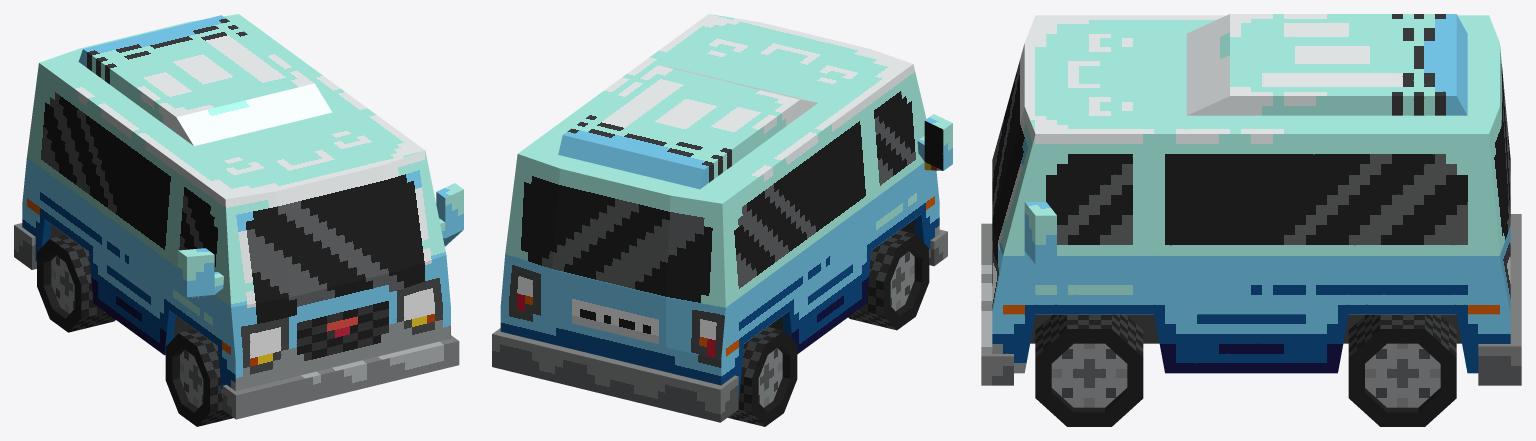
Rendered from bus.glb.
3 views of the same model, side by side, from view 1: azimuth 30°, elevation 25°; view 2: azimuth 150°, elevation 25°; view 3: azimuth 270°, elevation 25° (orthographic). The views are drawn at different scales.
Visible parts, largest first — view 1: cube_0, cube_1, cube_2, cylinder_9, cylinder_11, cube_6, cube_5, cube_3; view 2: cube_0, cube_1, cube_3, cylinder_11, cylinder_9, cube_6, cube_2; view 3: cube_0, cube_1, cylinder_13, cylinder_15, cube_3, cube_2, cube_5.
Boxes of the visible parts, <box> form: cube_0: <box>22,14,450,397</box>; cube_1: <box>78,15,332,146</box>; cube_2: <box>222,335,459,419</box>; cylinder_9: <box>37,235,115,332</box>; cylinder_11: <box>165,329,233,426</box>; cube_6: <box>178,248,223,302</box>; cube_5: <box>436,183,463,246</box>; cube_3: <box>14,223,36,269</box>; cube_0: <box>500,14,939,396</box>; cube_1: <box>558,65,817,189</box>; cube_3: <box>492,328,738,422</box>; cylinder_11: <box>848,230,929,330</box>; cylinder_9: <box>727,327,797,426</box>; cube_6: <box>917,114,952,170</box>; cube_2: <box>929,229,947,266</box>; cube_0: <box>992,15,1510,373</box>; cube_1: <box>1186,14,1467,115</box>; cylinder_13: <box>1035,314,1143,426</box>; cylinder_15: <box>1348,314,1456,426</box>; cube_3: <box>1478,214,1521,385</box>; cube_2: <box>981,223,1013,385</box>; cube_5: <box>1024,202,1056,264</box>.
Bounding box in the file's own units: 2.25 × 1.94 × 3.12.
Materials: 4 (4 with a texture image).
